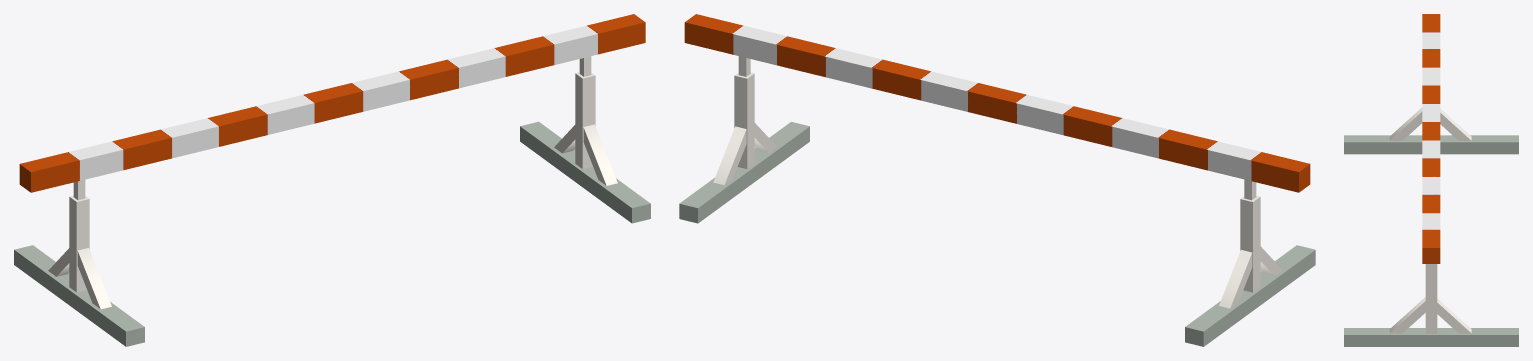
The model's file is Steeplechase_man.FBX.
3 views of the same model, side by side, from view 1: azimuth 30°, elevation 25°; view 2: azimuth 150°, elevation 25°; view 3: azimuth 270°, elevation 25° (orthographic). The views are drawn at different scales.
Visible parts, largest first — view 1: Steeplechase_man; view 2: Steeplechase_man; view 3: Steeplechase_man.
Part boxes in pixels (x1,y1,x2,y2): Steeplechase_man: (14,14,650,346); Steeplechase_man: (679,14,1315,346); Steeplechase_man: (1344,14,1518,346).
Size of the model in its own units: 39.6 by 9.17 by 12.5.
